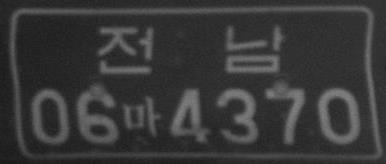0: (316, 85, 362, 146), (30, 87, 70, 144)
3: (215, 86, 260, 146)
4: (169, 87, 211, 144)
6: (76, 86, 120, 144)
7: (263, 86, 307, 145)
마: (122, 94, 162, 139)
전남_D: (97, 22, 286, 75)
